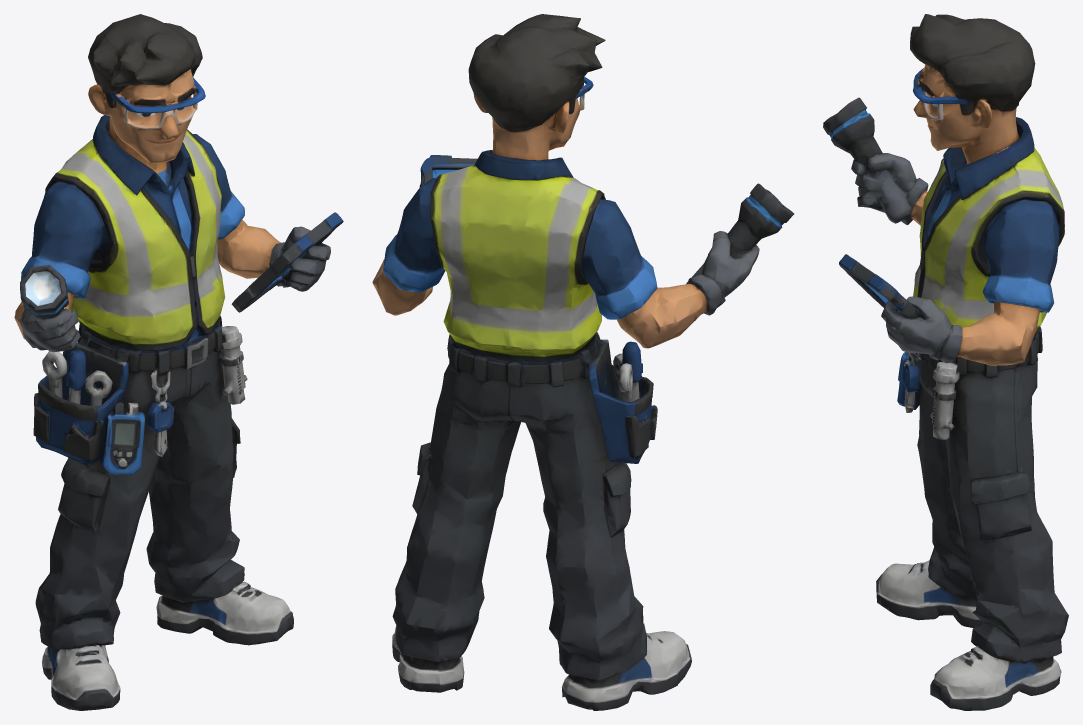
File: vehicle_inspection_character_1k_real.glb
3 renders of one model, left to right at view 1: azimuth 30°, elevation 25°; view 2: azimuth 150°, elevation 25°; view 3: azimuth 270°, elevation 25°, orthographic. The views are drawn at different scales.
Visible parts, largest first — view 1: tripo_node_f39830ba-15e0-4660-9cbc-3ee6ce0350a7; view 2: tripo_node_f39830ba-15e0-4660-9cbc-3ee6ce0350a7; view 3: tripo_node_f39830ba-15e0-4660-9cbc-3ee6ce0350a7.
Boxes of the visible parts, bbox=[...] form: tripo_node_f39830ba-15e0-4660-9cbc-3ee6ce0350a7: bbox=[14, 14, 343, 710]; tripo_node_f39830ba-15e0-4660-9cbc-3ee6ce0350a7: bbox=[372, 14, 794, 710]; tripo_node_f39830ba-15e0-4660-9cbc-3ee6ce0350a7: bbox=[823, 14, 1068, 710].
Bounding box in the file's own units: 0.5615 × 1 × 0.3547.
Materials: 1 (1 with a texture image).
